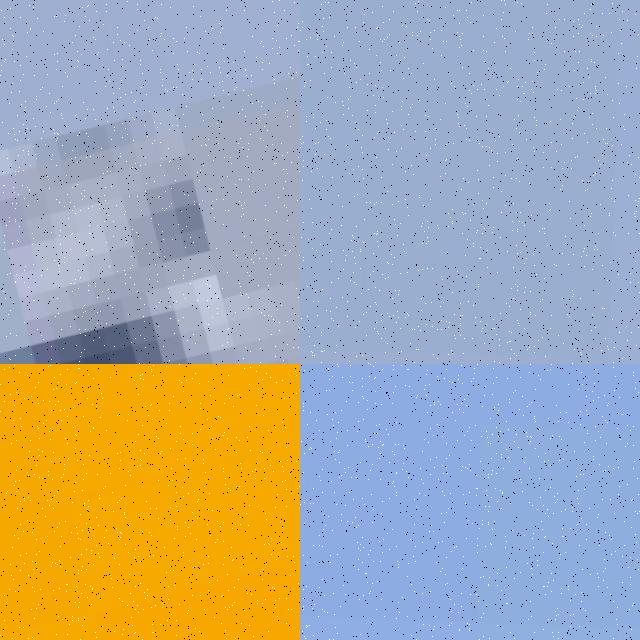0: (0, 0, 300, 364)
drone: (0, 364, 300, 640)
